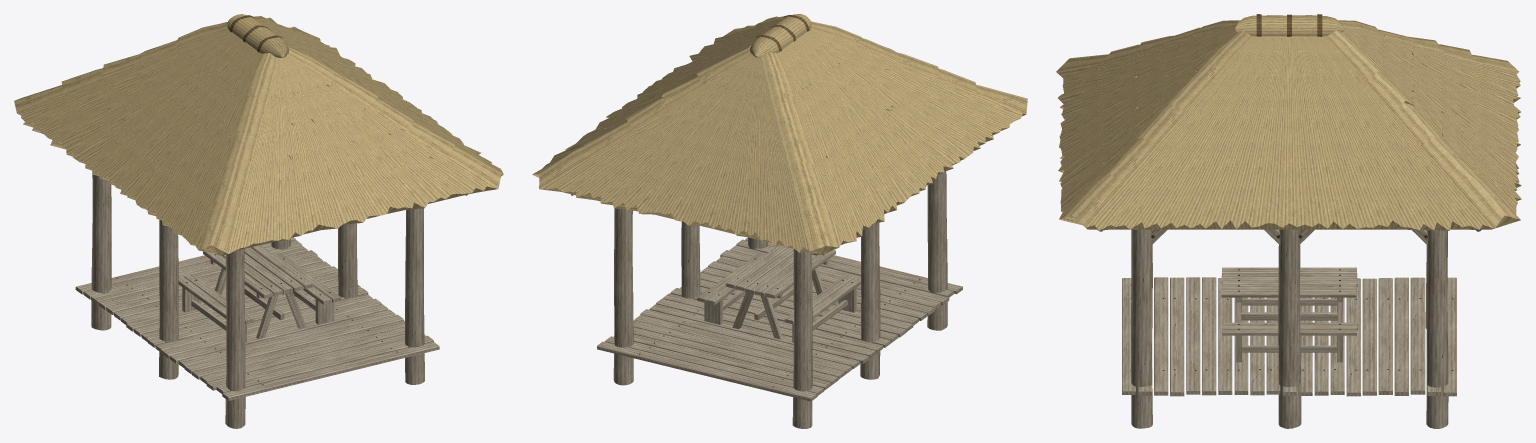
3 renders of one model, left to right at view 1: azimuth 30°, elevation 25°; view 2: azimuth 150°, elevation 25°; view 3: azimuth 270°, elevation 25°, orthographic. The views are drawn at different scales.
Parts seen in each view (by area): view 1: thatch, timber; view 2: thatch, timber; view 3: thatch, timber.
Part boxes in pixels (x1=…): thatch: x1=14, y1=14, x2=503, y2=255; timber: x1=75, y1=171, x2=467, y2=428; thatch: x1=532, y1=14, x2=1027, y2=255; timber: x1=571, y1=171, x2=962, y2=428; thatch: x1=1056, y1=15, x2=1521, y2=230; timber: x1=1097, y1=229, x2=1481, y2=428.
Size of the model in its own units: 4.72 by 4.72 by 5.53.
4 materials, 4 textured.
